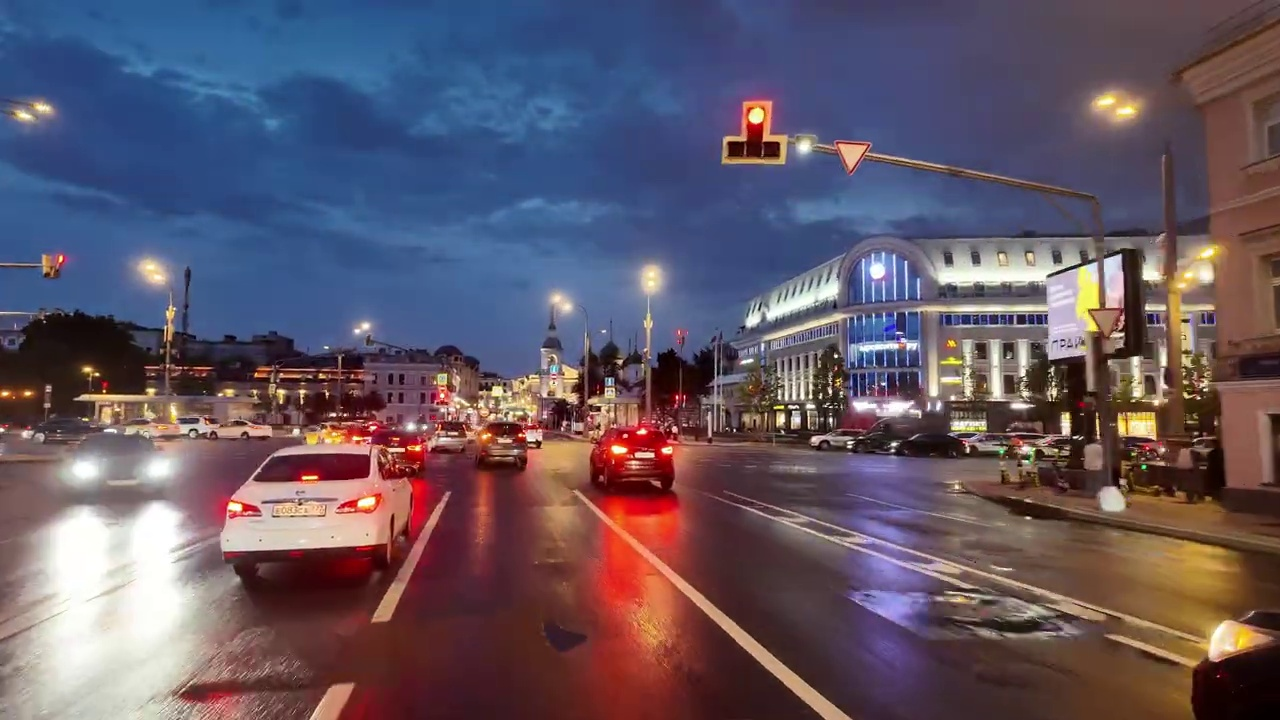acesa: (1093, 91, 1138, 120), (638, 263, 665, 294), (17, 100, 54, 122), (138, 257, 167, 285), (743, 101, 770, 126), (548, 291, 574, 316), (352, 316, 373, 339)
